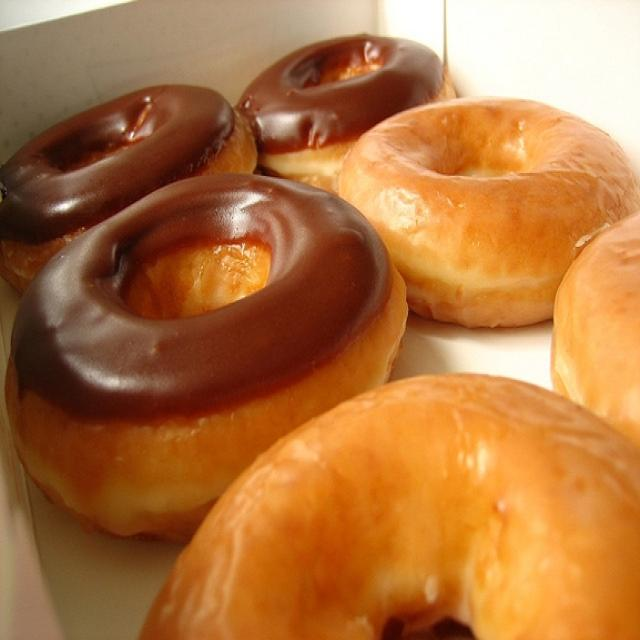炸货点心: (18, 28, 611, 612)
